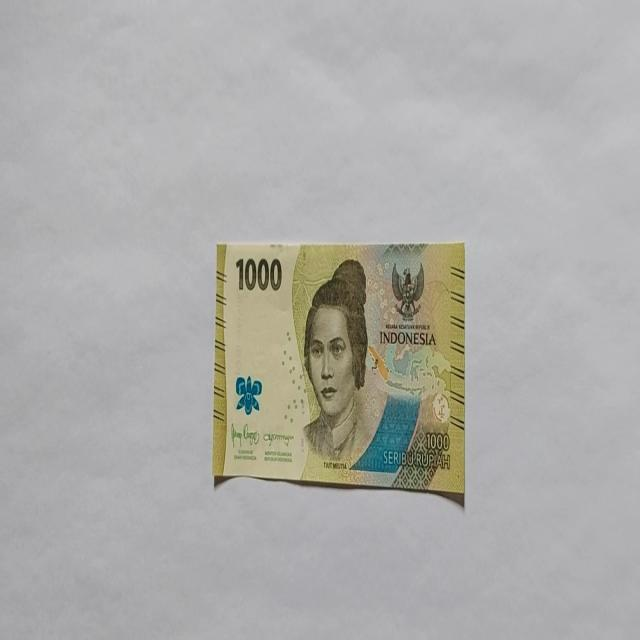seribu rupiah kertas: (212, 239, 466, 501)
